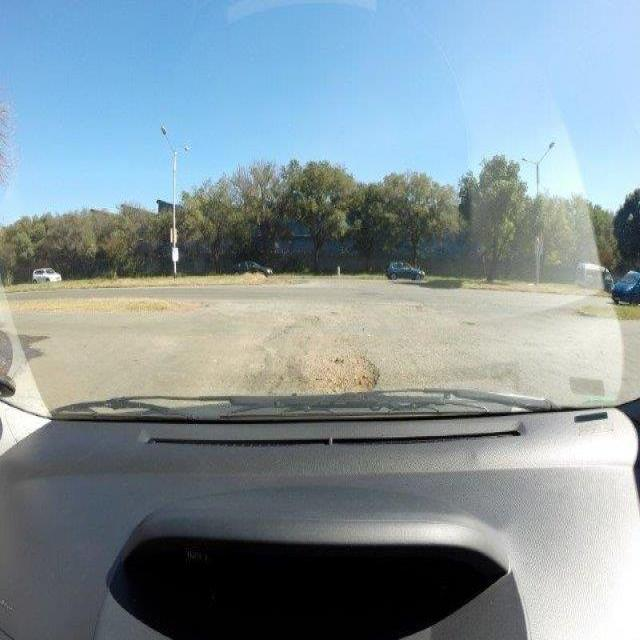lubang: (296, 347, 382, 393)
